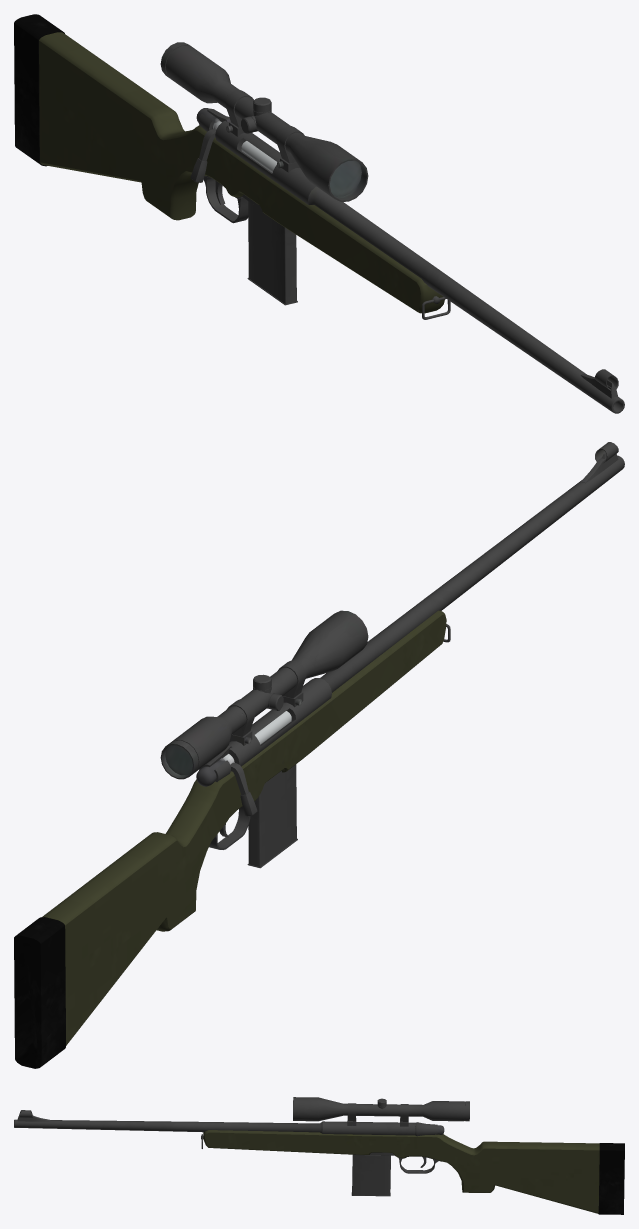
The model's file is scoped_rifle.glb.
3 views of the same model, one above another, from view 1: azimuth 30°, elevation 25°; view 2: azimuth 150°, elevation 25°; view 3: azimuth 270°, elevation 25° (orthographic). The views are drawn at different scales.
Visible parts, largest first — view 1: Trigger; view 2: Trigger; view 3: Trigger.
Part boxes in pixels (<box>): Trigger: <box>14,14,624,413</box>; Trigger: <box>14,442,624,1068</box>; Trigger: <box>14,1097,624,1214</box>.
Bounding box in the file's own units: 0.0571 × 0.2384 × 1.15.
Materials: 1 (1 with a texture image).
